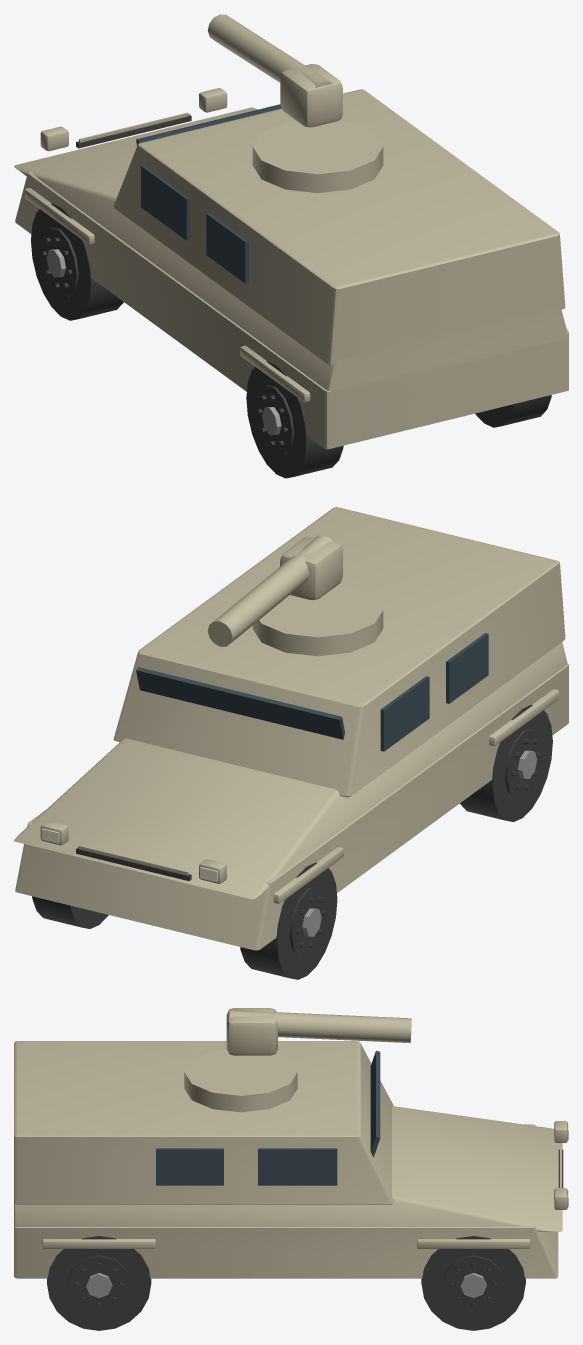
File: usa_td_tow.glb
The picture shows the model from 3 angles, top to bottom: view 1: azimuth 30°, elevation 25°; view 2: azimuth 150°, elevation 25°; view 3: azimuth 270°, elevation 25°; orthographic projection. The views are drawn at different scales.
Visible parts, largest first — view 1: body, turret, barrel, wheel_2, wheel_0, wheel_3; view 2: body, turret, barrel, wheel_0, wheel_2, wheel_1; view 3: body, wheel_1, wheel_3, barrel, turret.
Part boxes in pixels (x1,y1,x2,y2): body: (14, 88, 568, 449); turret: (252, 121, 383, 193); barrel: (207, 14, 342, 127); wheel_2: (246, 361, 343, 478); wheel_0: (31, 203, 123, 320); wheel_3: (475, 395, 551, 427); body: (14, 507, 568, 950); turret: (252, 584, 383, 656); barrel: (207, 535, 342, 646); wheel_0: (240, 862, 337, 979); wheel_2: (460, 705, 552, 821); wheel_1: (32, 896, 108, 928); body: (14, 1041, 568, 1278); wheel_1: (421, 1236, 525, 1330); wheel_3: (47, 1236, 151, 1330); barrel: (226, 1008, 411, 1055); turret: (184, 1049, 297, 1112).
Size of the model in its own units: 2.3 by 2.6 by 4.89.
